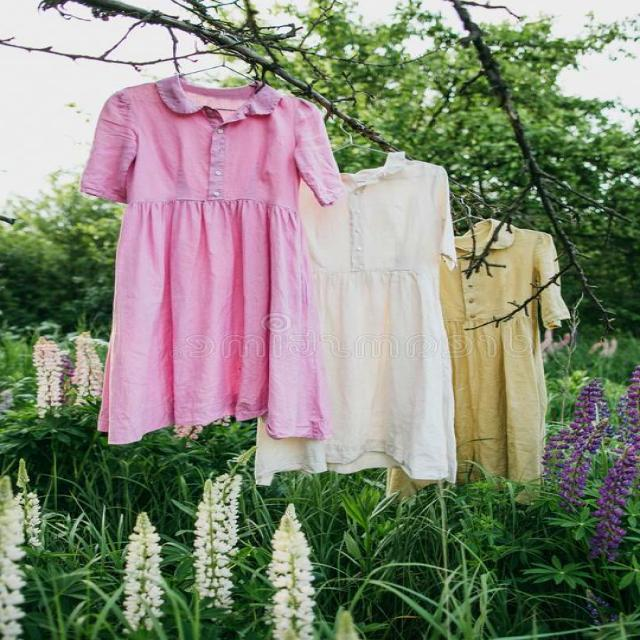clothes: (116, 73, 560, 486)
